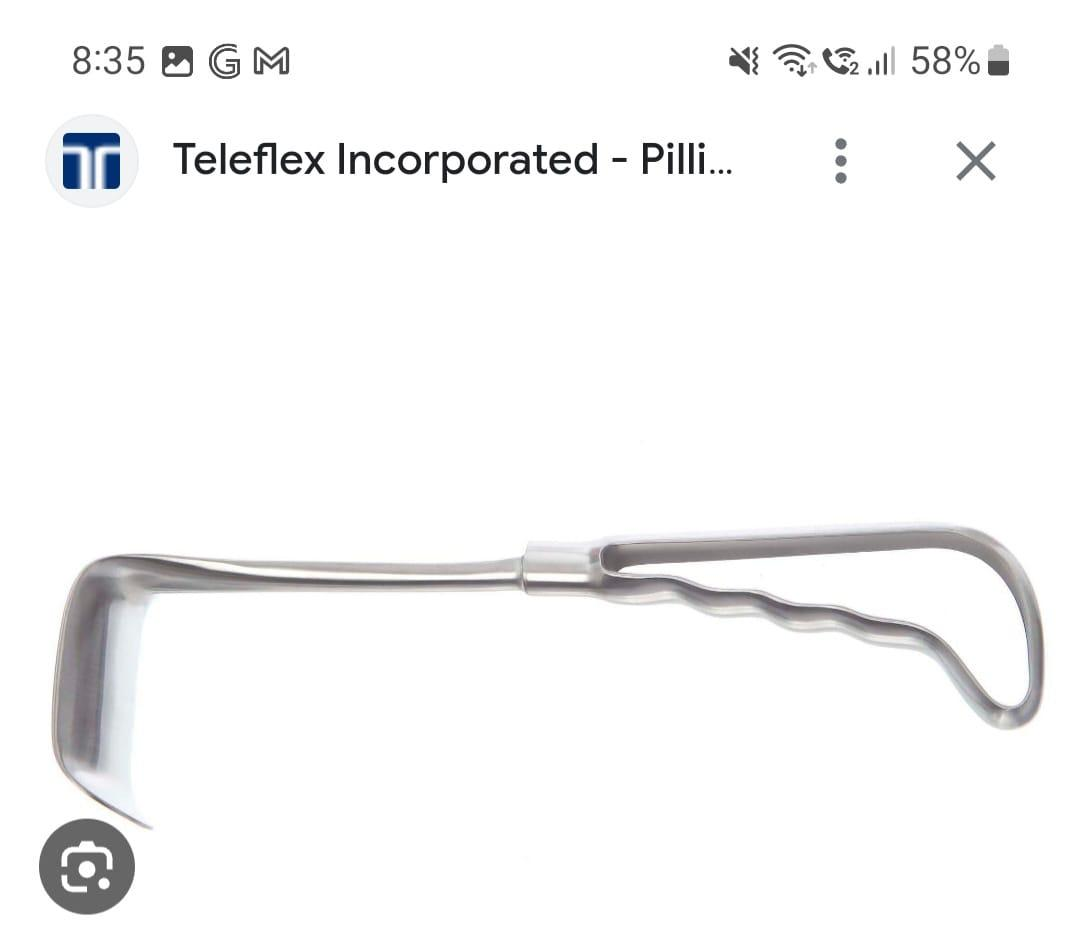Kelly Retractor: (53, 510, 1056, 827)
